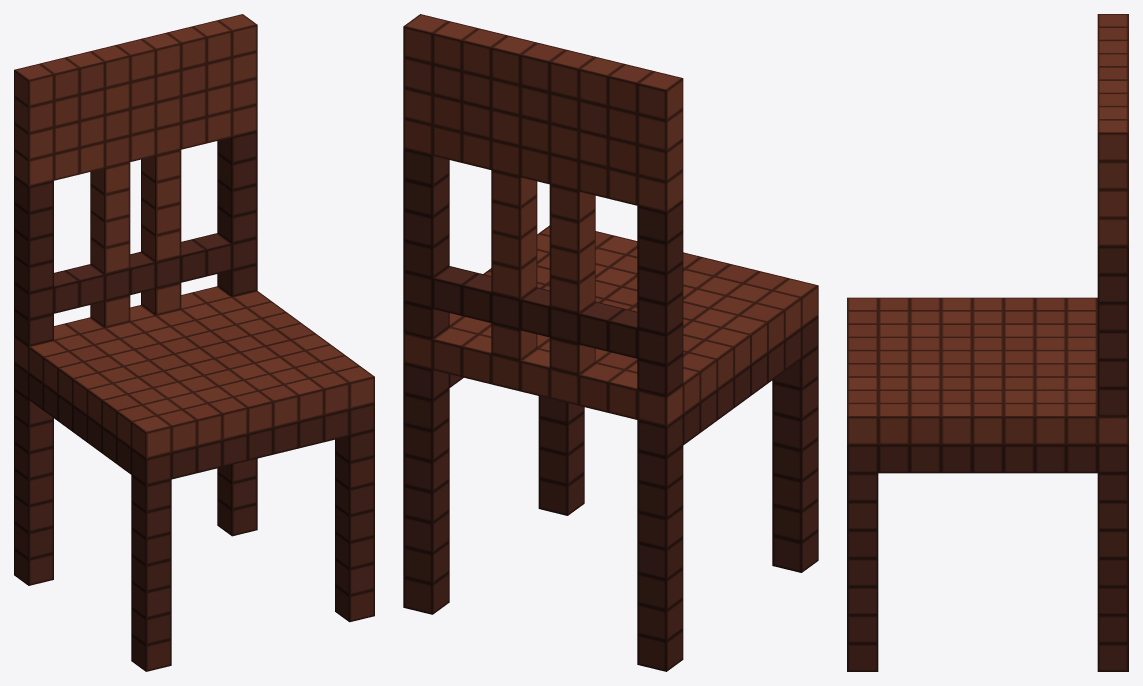
The model's file is cafe_chair.glb.
The picture shows the model from 3 angles, left to right: view 1: azimuth 30°, elevation 25°; view 2: azimuth 150°, elevation 25°; view 3: azimuth 270°, elevation 25°; orthographic projection. The views are drawn at different scales.
Parts seen in each view (by area): view 1: cafe_chair; view 2: cafe_chair; view 3: cafe_chair.
Part boxes in pixels (x1,y1,x2,y2): cafe_chair: (14, 14, 374, 671); cafe_chair: (403, 14, 818, 671); cafe_chair: (847, 14, 1128, 671).
Bounding box in the file's own units: 0.45 × 0.95 × 0.45.
2 materials, 2 textured.
